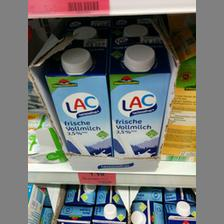Milch: (44, 38, 111, 158), (108, 43, 160, 160)
